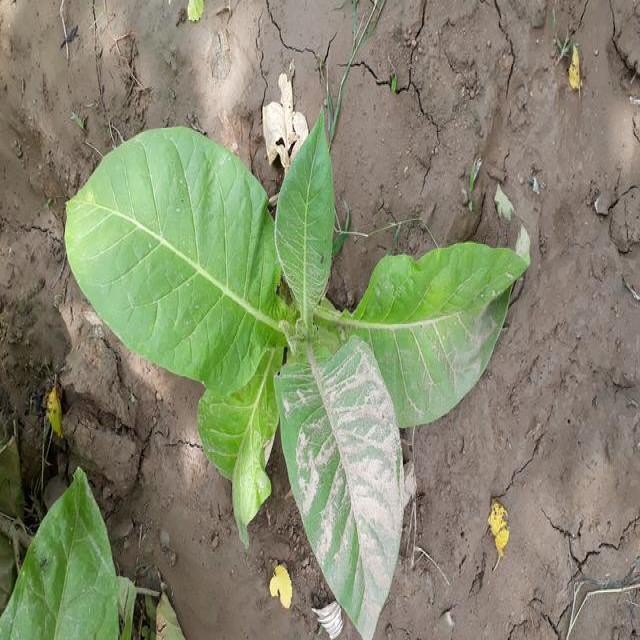crop: (74, 109, 514, 626), (1, 477, 118, 640)
